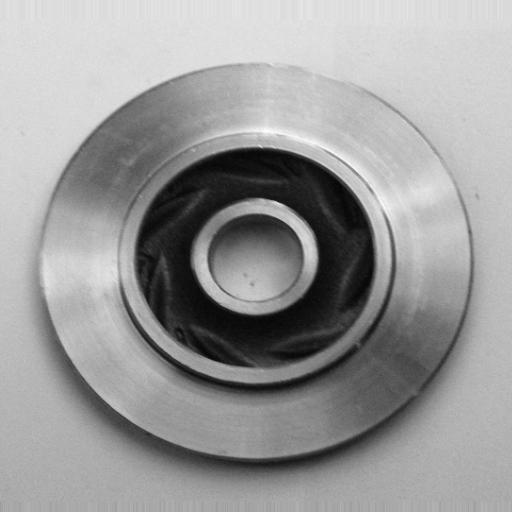scratch: (38, 56, 474, 469)
